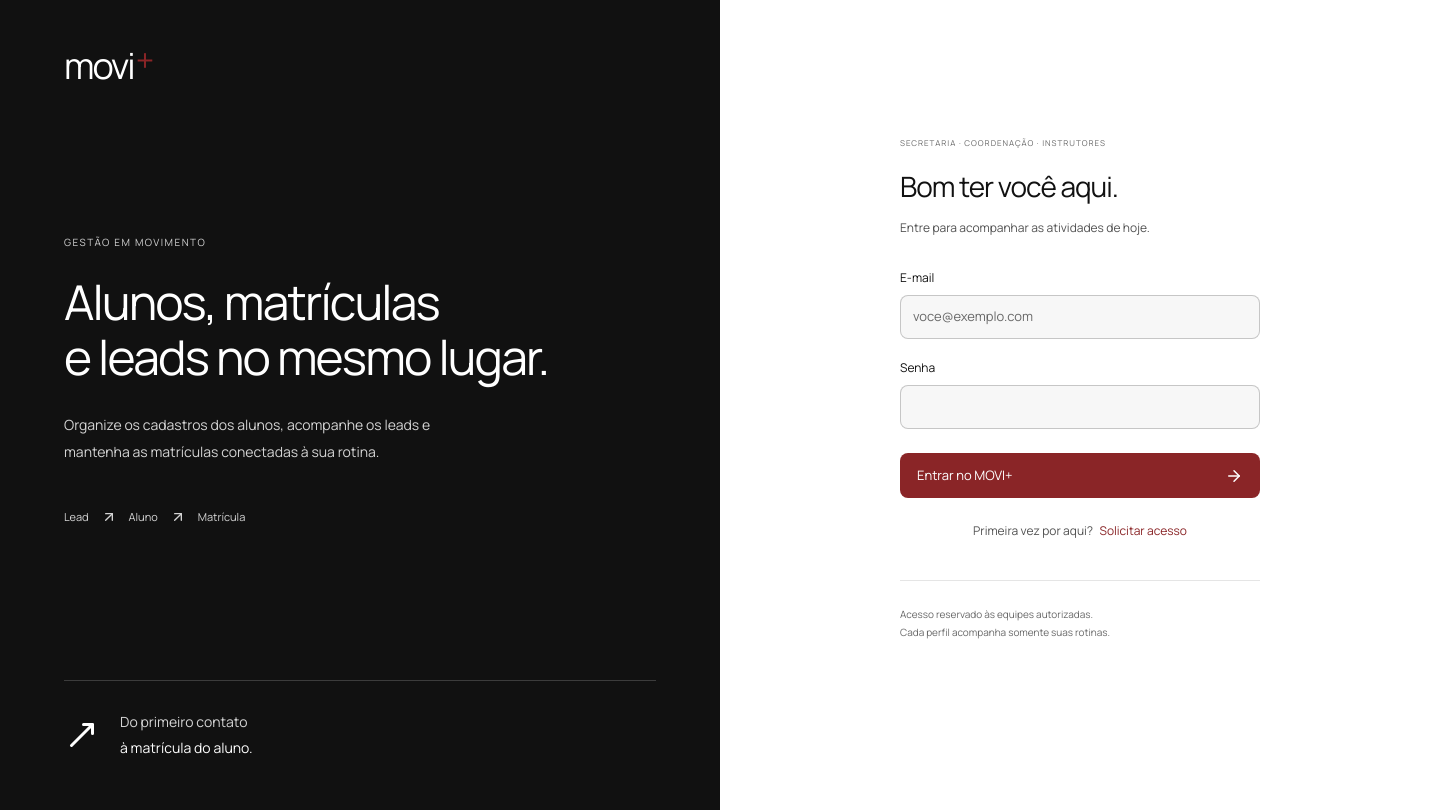
acesso › mostra impedimento de conta pendente sem acesso interno
In the field labelled "E-mail": [1080, 317] box top-left (900, 295), bottom-right (1260, 339), type "solicitante@exemplo.com"
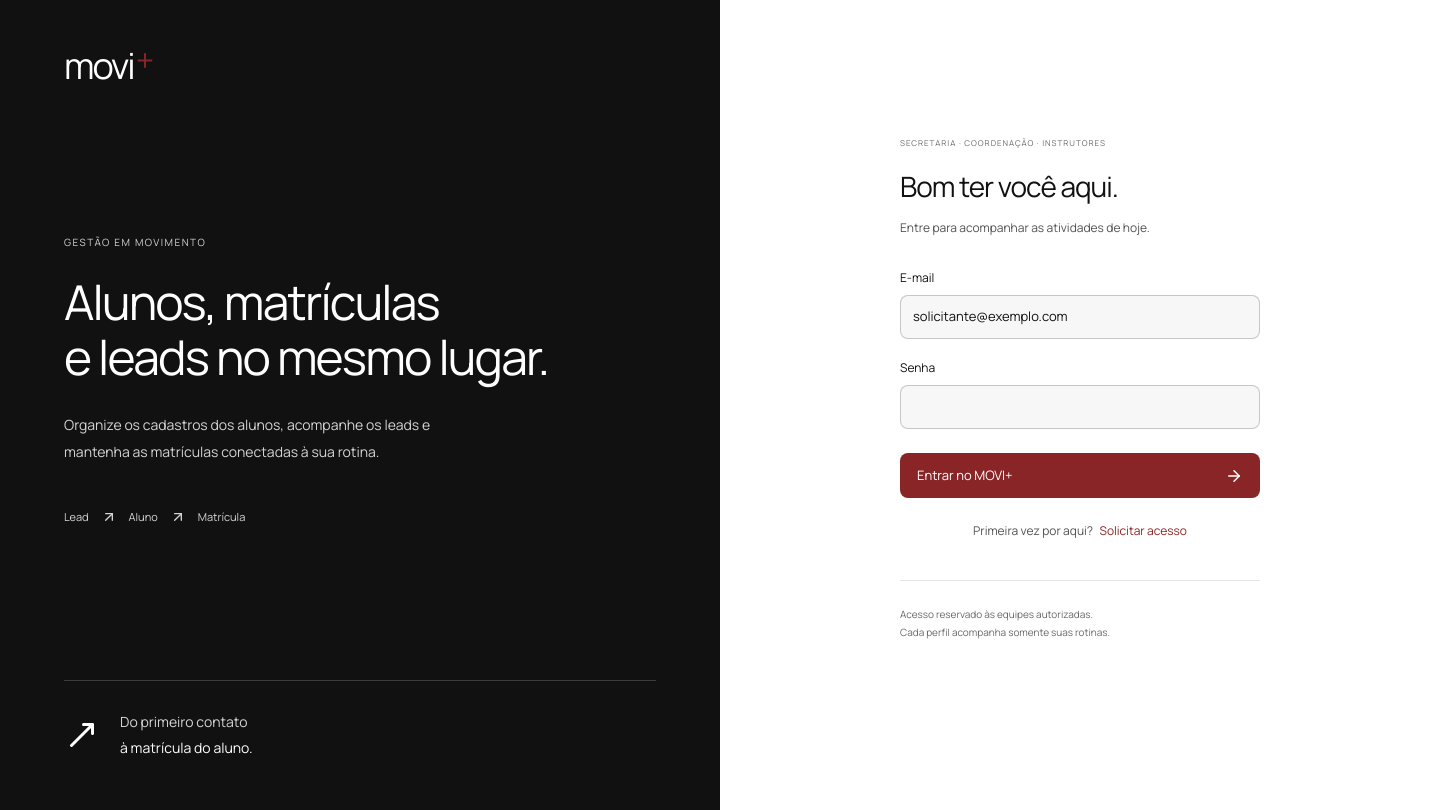
In the password field labelled "Senha": [1080, 407] box top-left (900, 385), bottom-right (1260, 429), type "SenhaSecreta123"
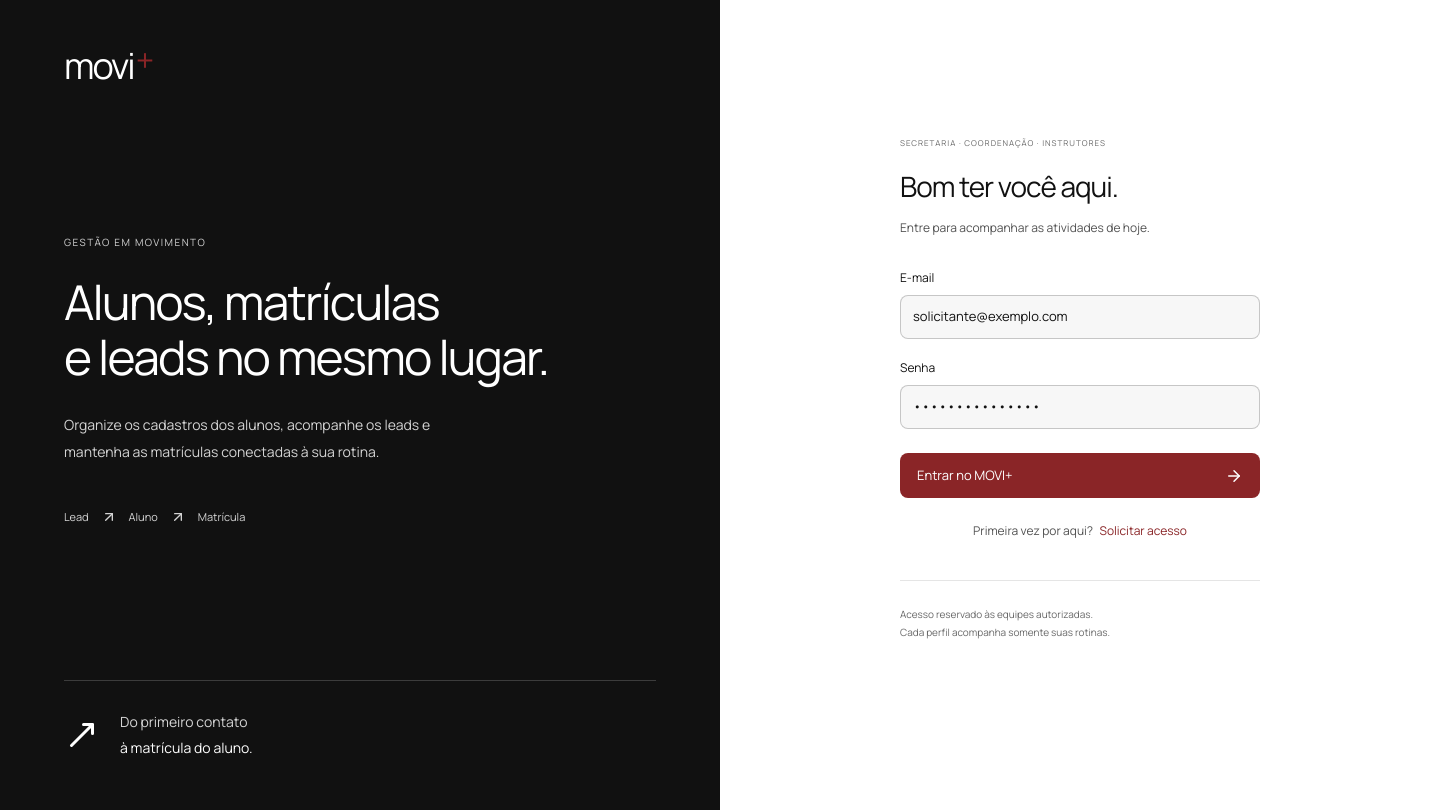
Click the button "Entrar no MOVI+": [965, 475] box top-left (900, 453), bottom-right (1260, 498)
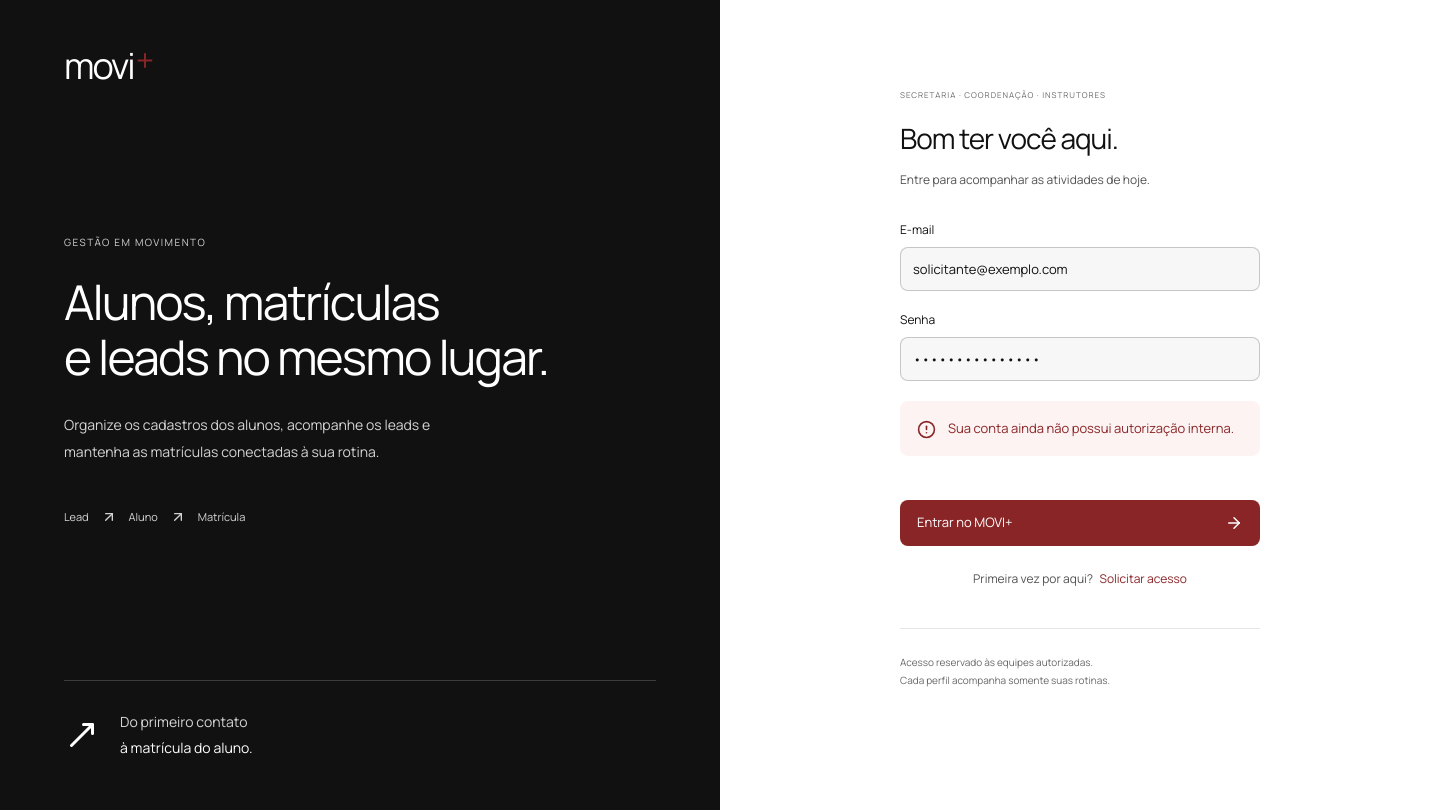
Expected: the button "Entrar no MOVI+" is enabled, top-left (900, 500), bottom-right (1260, 546)
Expected: the message shows "ainda não possui autorização", top-left (948, 419), bottom-right (1234, 437)
